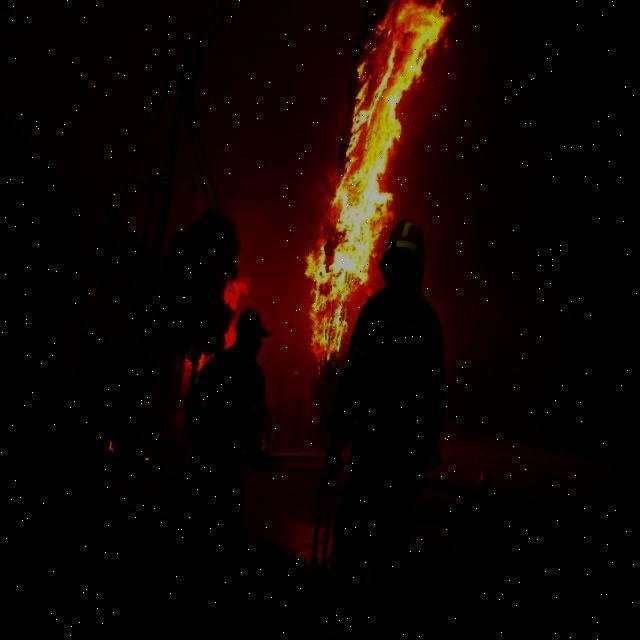Fire: (297, 8, 459, 371), (187, 260, 258, 380)
